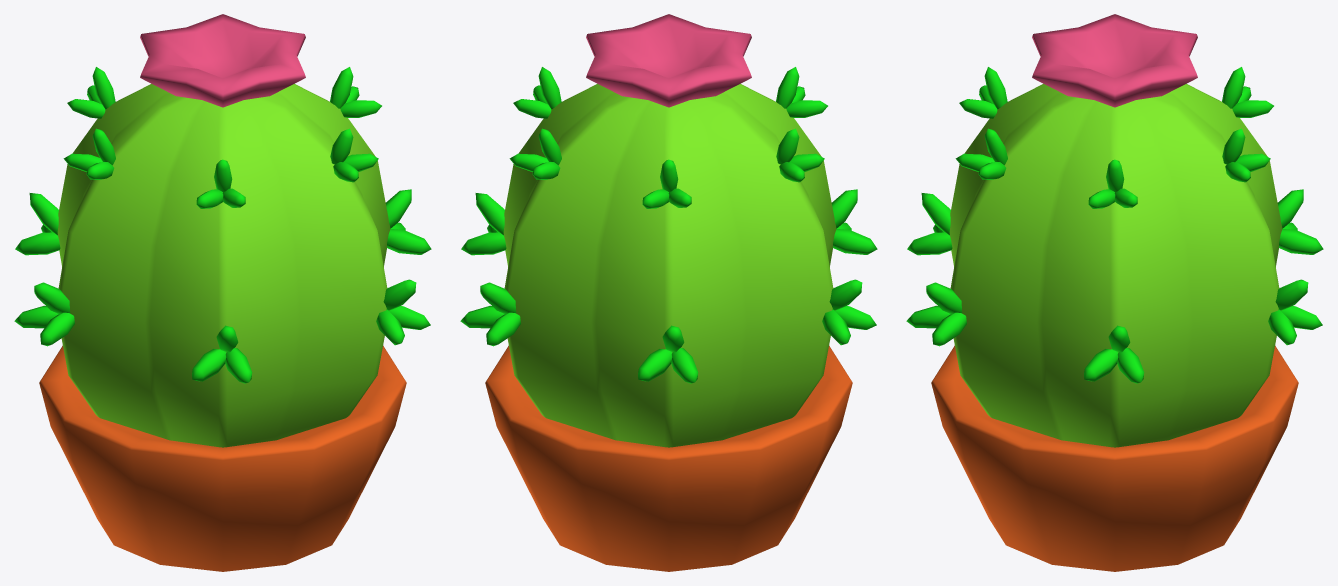
The model's file is кактус_с_анимацией.fbx.
The picture shows the model from 3 angles, left to right: view 1: azimuth 30°, elevation 25°; view 2: azimuth 150°, elevation 25°; view 3: azimuth 270°, elevation 25°; orthographic projection.
Visible parts, largest first — view 1: кактус; view 2: кактус; view 3: кактус.
Part boxes in pixels (x1,y1,x2,y2): кактус: (14,14,431,571); кактус: (460,14,877,571); кактус: (906,14,1323,571).
Bounding box in the file's own units: 17.19 × 19.76 × 15.94.
